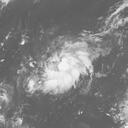cyclone: (27, 35, 99, 95)
